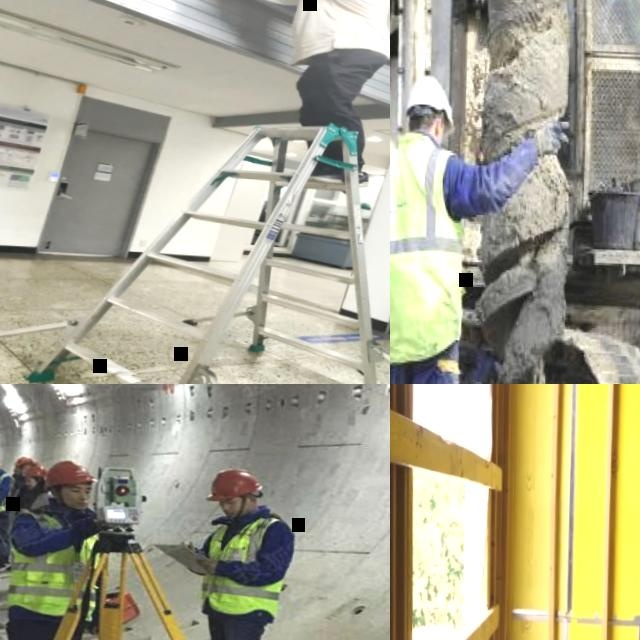Hardhat: (407, 73, 457, 130), (204, 467, 264, 502), (42, 458, 93, 490), (20, 465, 48, 478), (13, 455, 31, 465)
NO-Mask: (65, 494, 90, 510), (221, 504, 246, 518), (27, 481, 35, 489)
NO-Safety Vest: (293, 0, 390, 60), (7, 487, 48, 532), (10, 477, 24, 499)
Person: (390, 68, 575, 384), (220, 0, 390, 187), (0, 454, 111, 640), (190, 467, 306, 640), (600, 0, 640, 172), (1, 454, 38, 573), (13, 465, 47, 514), (0, 452, 14, 570)
Safety Vest: (390, 131, 470, 363), (4, 504, 105, 623), (198, 513, 283, 622), (614, 0, 640, 91), (0, 470, 10, 510)
machinery: (390, 0, 640, 384)
